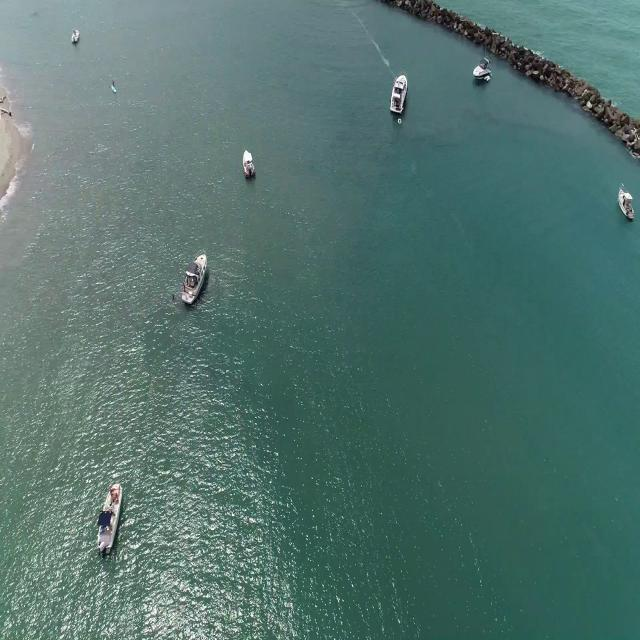boat: (99, 478, 126, 556), (182, 253, 209, 305), (386, 67, 408, 116), (238, 148, 259, 182), (473, 56, 494, 89), (615, 187, 633, 219), (71, 26, 81, 45)
life_buoy: (396, 115, 404, 126)
person: (112, 76, 117, 89)
surfboard: (110, 86, 118, 98)
